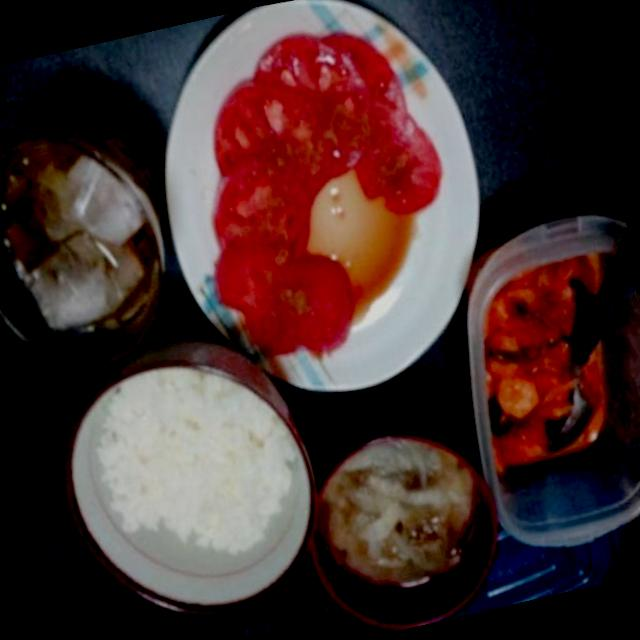Rice: (76, 348, 318, 588)
